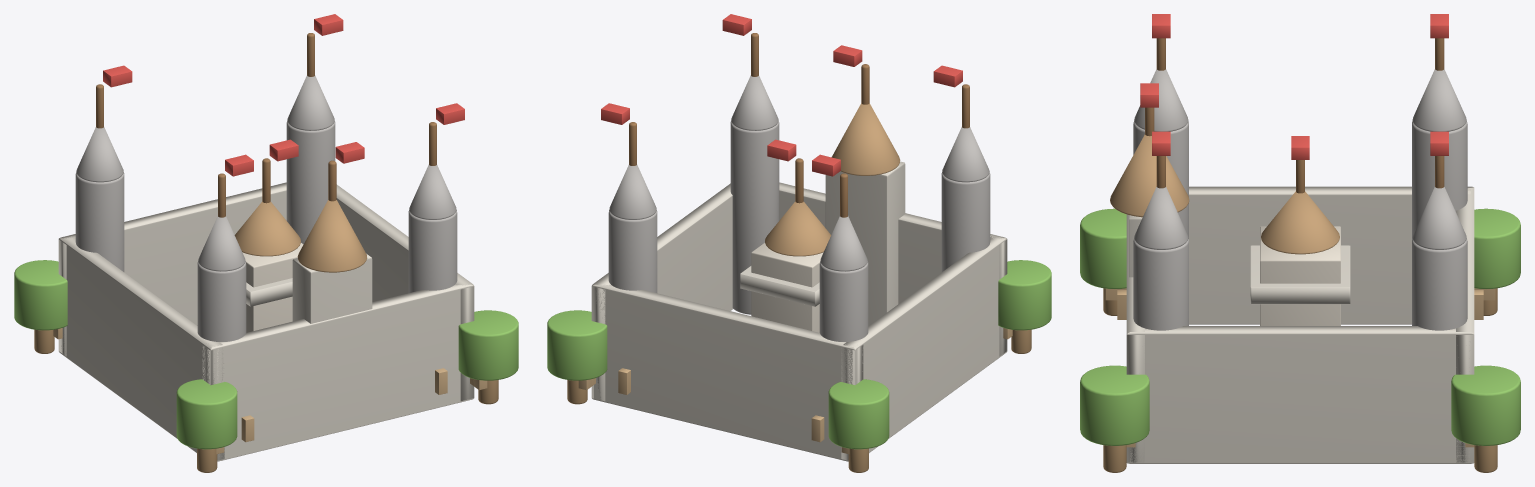
Rendered from burg_level_3.glb.
3 renders of one model, left to right at view 1: azimuth 30°, elevation 25°; view 2: azimuth 150°, elevation 25°; view 3: azimuth 270°, elevation 25°, orthographic. The views are drawn at different scales.
Parts seen in each view (by area): view 1: Wall_South, Wall_West, Wall_North, Wall_East, Tower_NE, Gatehouse, TreeLeaves_2, Tower_NW, TreeLeaves_3, Tower_SE, Tower_SW, TreeLeaves_0 (+8 smaller); view 2: Wall_North, Wall_West, Wall_East, Gatehouse, Tower_SE, Wall_South, TreeLeaves_0, Tower_SW, TreeLeaves_1, InnerKeep, Tower_NE, Tower_NW (+8 smaller); view 3: Wall_East, Wall_West, TreeLeaves_1, TreeLeaves_3, InnerKeep, Tower_NE, Tower_SE, TreeLeaves_0, Tower_NW, TreeLeaves_2, KeepRoof, GatehouseRoof (+15 smaller).
Part boxes in pixels (bbox=[...]): Wall_South: bbox=[202, 284, 473, 461]; Wall_West: bbox=[59, 236, 224, 460]; Wall_North: bbox=[58, 182, 286, 356]; Wall_East: bbox=[336, 184, 474, 401]; Tower_NE: bbox=[286, 121, 335, 243]; Gatehouse: bbox=[292, 253, 372, 323]; TreeLeaves_2: bbox=[176, 379, 237, 449]; Tower_NW: bbox=[75, 172, 124, 271]; TreeLeaves_3: bbox=[458, 310, 518, 380]; Tower_SE: bbox=[408, 210, 457, 292]; Tower_SW: bbox=[197, 261, 246, 341]; TreeLeaves_0: bbox=[14, 260, 67, 330]; Wall_North: bbox=[592, 284, 863, 461]; Wall_West: bbox=[841, 236, 1006, 460]; Wall_East: bbox=[591, 183, 732, 401]; Gatehouse: bbox=[825, 161, 905, 325]; Tower_SE: bbox=[730, 121, 779, 314]; Wall_South: bbox=[779, 182, 1007, 356]; TreeLeaves_0: bbox=[828, 379, 889, 449]; Tower_SW: bbox=[941, 172, 990, 271]; TreeLeaves_1: bbox=[547, 310, 607, 380]; InnerKeep: bbox=[751, 243, 823, 332]; Tower_NE: bbox=[608, 210, 657, 292]; Tower_NW: bbox=[819, 261, 868, 341]; Wall_East: bbox=[1127, 326, 1473, 463]; Wall_West: bbox=[1189, 186, 1473, 324]; TreeLeaves_1: bbox=[1451, 365, 1520, 445]; TreeLeaves_3: bbox=[1080, 365, 1149, 445]; InnerKeep: bbox=[1260, 226, 1340, 325]; Tower_NE: bbox=[1412, 238, 1467, 330]; Tower_SE: bbox=[1133, 238, 1188, 330]; TreeLeaves_0: bbox=[1474, 208, 1520, 288]; Tower_NW: bbox=[1412, 121, 1467, 239]; TreeLeaves_2: bbox=[1080, 208, 1126, 288]; KeepRoof: bbox=[1261, 191, 1339, 254]; GatehouseRoof: bbox=[1110, 134, 1189, 217].
Bounding box in the file's own units: 1.9 × 1.53 × 1.9.
